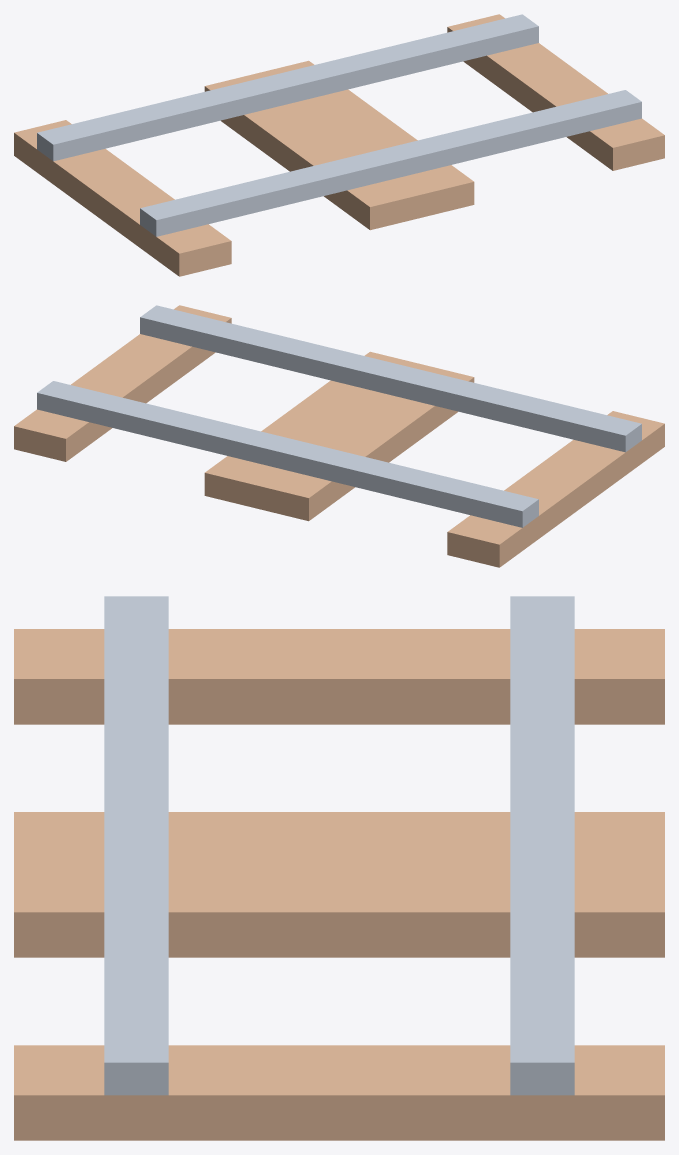
Rendered from trackStraight.glb.
3 renders of one model, top to bottom at view 1: azimuth 30°, elevation 25°; view 2: azimuth 150°, elevation 25°; view 3: azimuth 270°, elevation 25°, orthographic. The views are drawn at different scales.
Visible parts, largest first — view 1: trackStraight(Clone); view 2: trackStraight(Clone); view 3: trackStraight(Clone).
Boxes of the visible parts, bbox=[...] form: trackStraight(Clone): bbox=[14, 14, 664, 276]; trackStraight(Clone): bbox=[14, 305, 664, 567]; trackStraight(Clone): bbox=[14, 596, 664, 1140].
Size of the model in its own units: 0.308 by 0.0241 by 0.1817.
